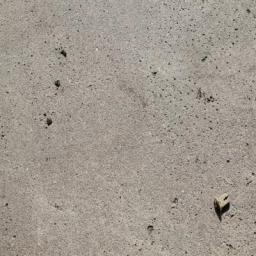FOD: (210, 192, 236, 219)
